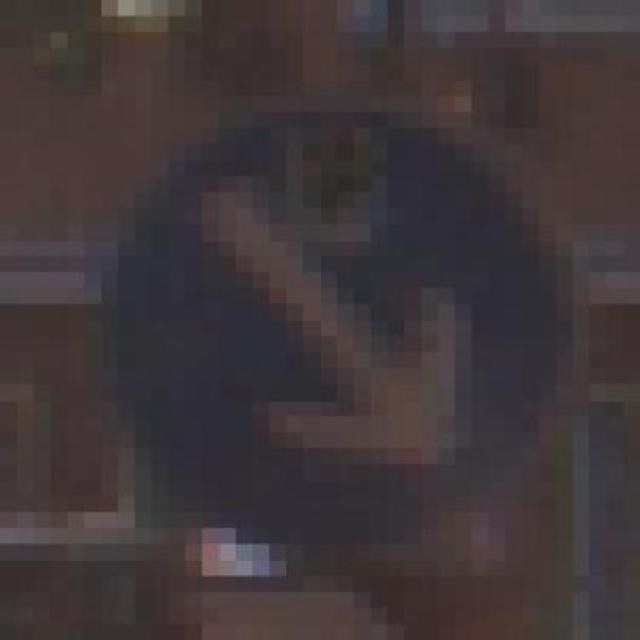Keep-Right: (84, 96, 590, 576)
